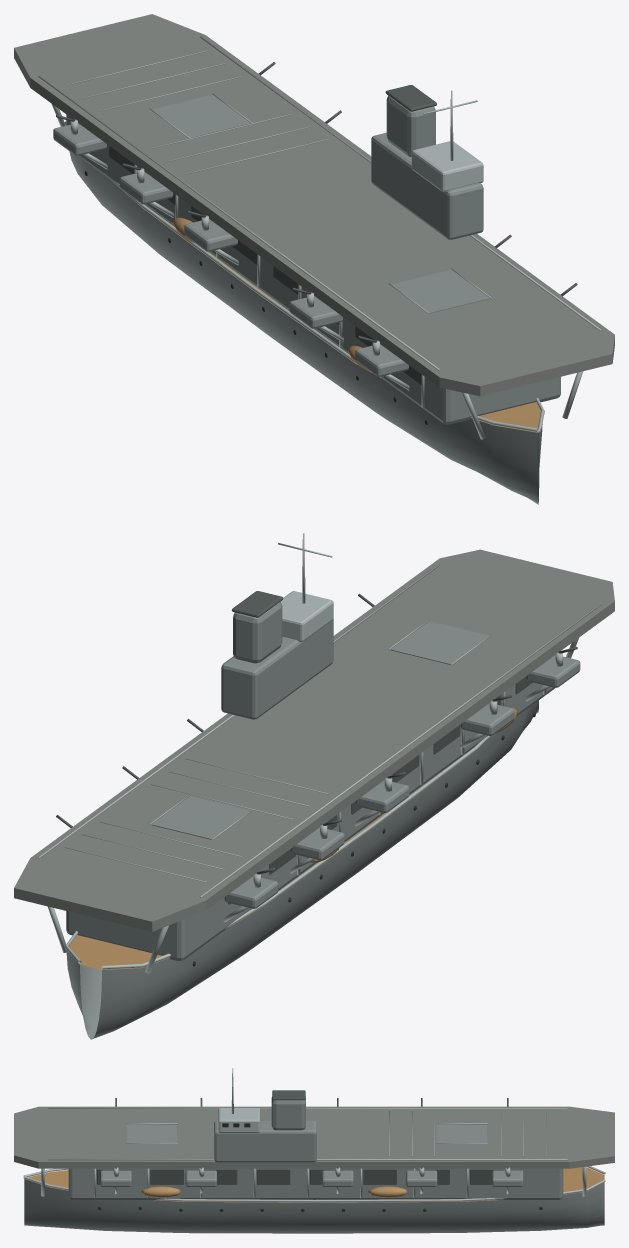
Rendered from ww2-straight-deck-carrier.glb.
The picture shows the model from 3 angles, top to bottom: view 1: azimuth 30°, elevation 25°; view 2: azimuth 150°, elevation 25°; view 3: azimuth 270°, elevation 25°; orthographic projection. The views are drawn at different scales.
Visible parts, largest first — view 1: straight_deck_surface, carrier_hull_geometry, unit_root_geometry, carrier_island_geometry, carrier_hangar_geometry, carrier_elevator_forward_geometry, carrier_elevator_aft_geometry; view 2: straight_deck_surface, carrier_hull_geometry, unit_root_geometry, carrier_island_geometry, carrier_hangar_geometry, carrier_elevator_aft_geometry, carrier_elevator_forward_geometry; view 3: straight_deck_surface, carrier_hull_geometry, carrier_hangar_geometry, carrier_island_geometry, unit_root_geometry, carrier_elevator_aft_geometry, carrier_elevator_forward_geometry.
Boxes of the visible parts, x1=… form: straight_deck_surface: x1=14, y1=14, x2=614, y2=396; carrier_hull_geometry: x1=64, y1=120, x2=544, y2=504; unit_root_geometry: x1=38, y1=36, x2=601, y2=439; carrier_island_geometry: x1=371, y1=85, x2=483, y2=239; carrier_hangar_geometry: x1=66, y1=114, x2=560, y2=424; carrier_elevator_forward_geometry: x1=388, y1=268, x2=491, y2=313; carrier_elevator_aft_geometry: x1=149, y1=93, x2=252, y2=138; straight_deck_surface: x1=14, y1=549, x2=614, y2=931; carrier_hull_geometry: x1=64, y1=700, x2=538, y2=1039; unit_root_geometry: x1=38, y1=564, x2=601, y2=973; carrier_island_geometry: x1=221, y1=533, x2=333, y2=719; carrier_hangar_geometry: x1=66, y1=676, x2=554, y2=961; carrier_elevator_aft_geometry: x1=149, y1=794, x2=252, y2=840; carrier_elevator_forward_geometry: x1=388, y1=619, x2=491, y2=665; straight_deck_surface: x1=14, y1=1106, x2=614, y2=1168; carrier_hull_geometry: x1=23, y1=1166, x2=605, y2=1233; carrier_hangar_geometry: x1=68, y1=1168, x2=563, y2=1199; carrier_island_geometry: x1=214, y1=1068, x2=316, y2=1162; unit_root_geometry: x1=41, y1=1098, x2=586, y2=1197; carrier_elevator_aft_geometry: x1=435, y1=1123, x2=487, y2=1143; carrier_elevator_forward_geometry: x1=125, y1=1123, x2=177, y2=1143.
Size of the model in its own units: 2.25 by 2.8 by 8.24.
